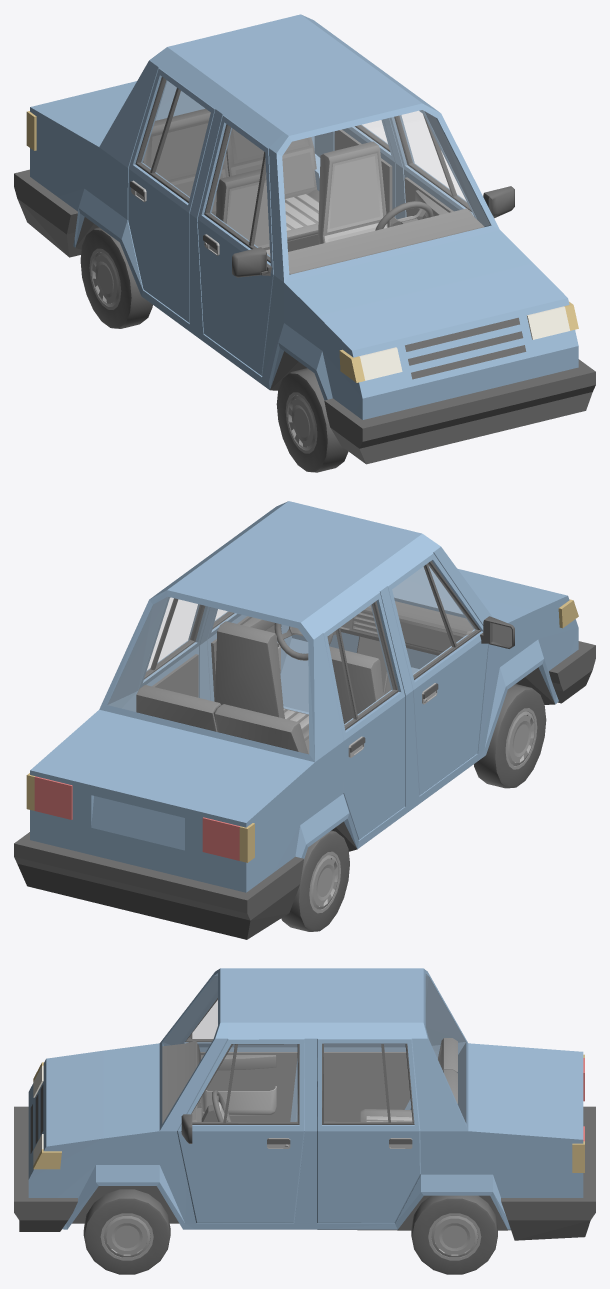
3 renders of one model, top to bottom at view 1: azimuth 30°, elevation 25°; view 2: azimuth 150°, elevation 25°; view 3: azimuth 270°, elevation 25°, orthographic. The views are drawn at different scales.
Visible parts, largest first — view 1: Chassis_Chassis_0, Chassis_Bumpers_0, RR_Door_Windows_0, Steerwheel_InteriorPanel_0; view 2: Chassis_Chassis_0, Chassis_Bumpers_0, RR_Door_Windows_0, Steerwheel_InteriorPanel_0; view 3: Chassis_Chassis_0, Chassis_Bumpers_0, RR_Door_Windows_0.
Boxes of the visible parts, left/top/right/bottom form: Chassis_Chassis_0: left=30, top=14, right=578, bottom=419; Chassis_Bumpers_0: left=14, top=77, right=595, bottom=472; RR_Door_Windows_0: left=139, top=80, right=489, bottom=273; Steerwheel_InteriorPanel_0: left=375, top=201, right=433, bottom=230; Chassis_Chassis_0: left=30, top=501, right=578, bottom=892; Chassis_Bumpers_0: left=14, top=561, right=595, bottom=939; RR_Door_Windows_0: left=108, top=563, right=477, bottom=753; Steerwheel_InteriorPanel_0: left=274, top=623, right=333, bottom=660; Chassis_Chassis_0: left=28, top=968, right=583, bottom=1229; Chassis_Bumpers_0: left=14, top=998, right=595, bottom=1274; RR_Door_Windows_0: left=164, top=975, right=465, bottom=1122.
Size of the model in its own units: 5.2 by 4.99 by 11.18.
Materials: 4 (4 with a texture image).
